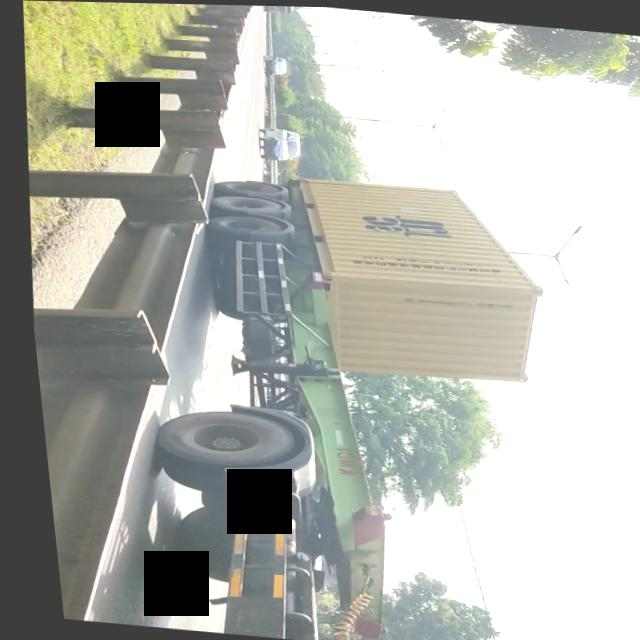Golongan I: (247, 121, 304, 165)
